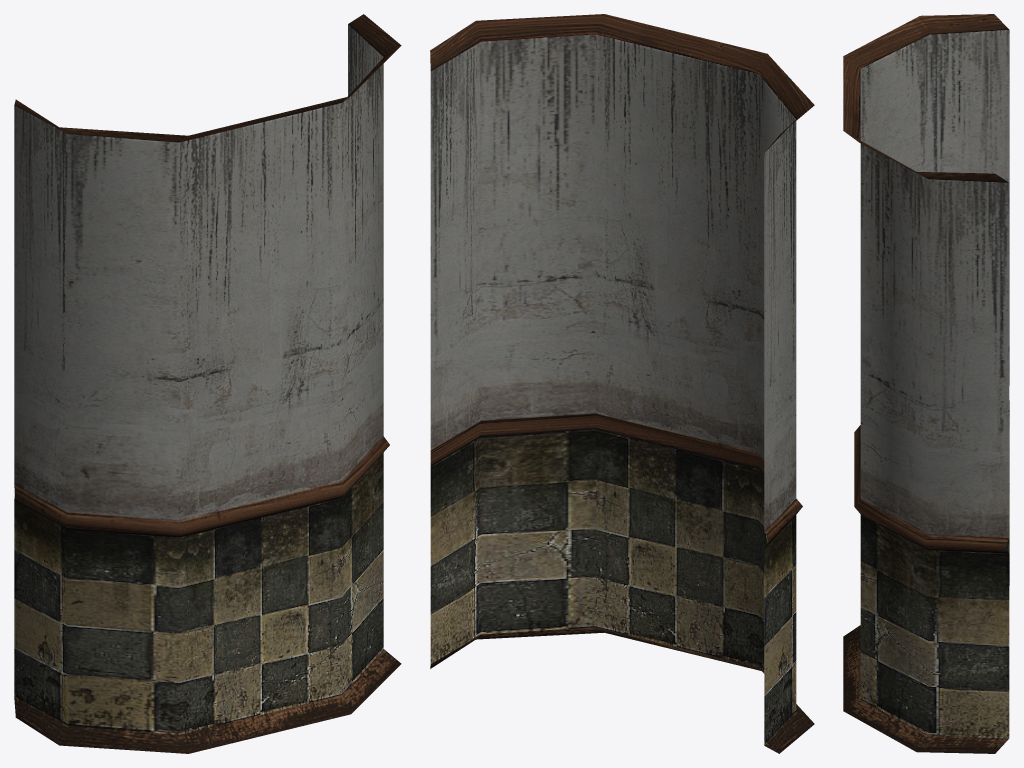
Rendered from Wall01.FBX.
3 views of the same model, side by side, from view 1: azimuth 30°, elevation 25°; view 2: azimuth 150°, elevation 25°; view 3: azimuth 270°, elevation 25° (orthographic). The views are drawn at different scales.
Parts seen in each view (by area): view 1: Wall001; view 2: Wall001; view 3: Wall001.
Boxes of the visible parts, x1,y1,x2,y2 form: Wall001: (14,14,401,753); Wall001: (430,14,814,753); Wall001: (843,14,1009,753).
Size of the model in its own units: 34.74 by 58.89 by 15.31.
